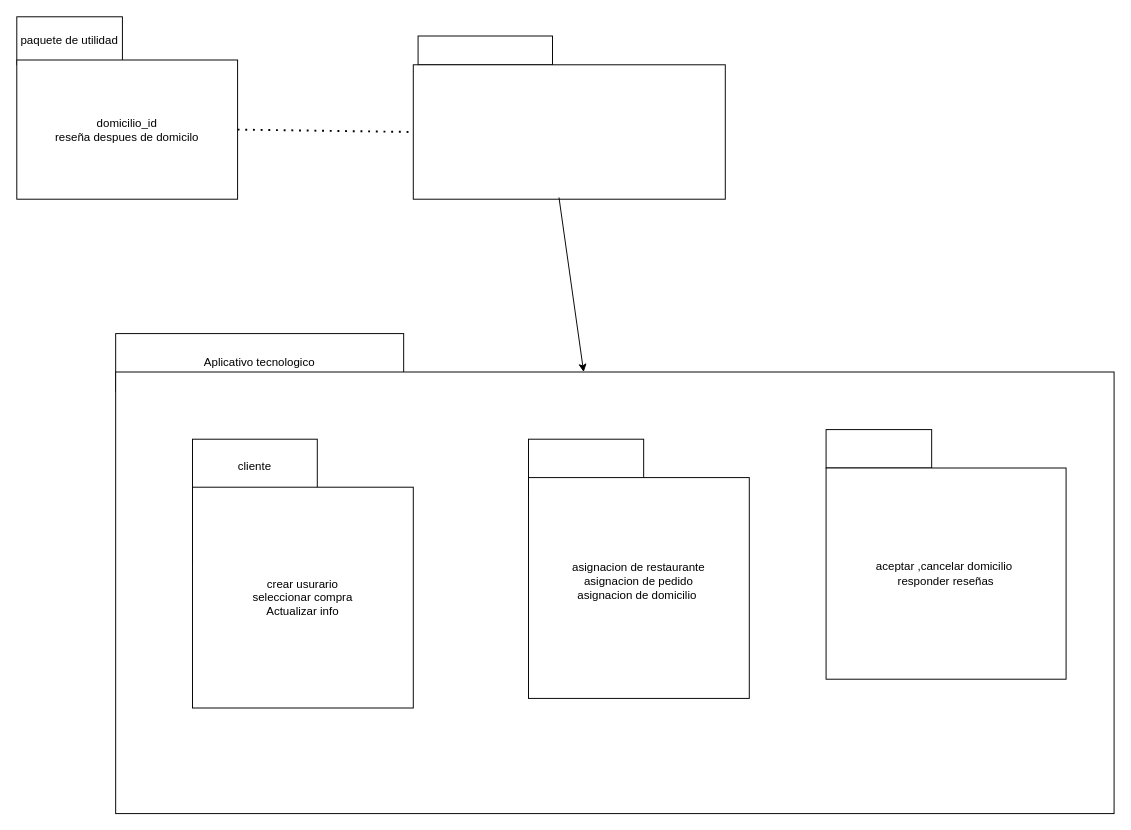
Some shapes in this 1131 by 830 pixel diagram are drawn without their labels. Each missing label, with the centre of its shape:
pagina web aplicacion movil registro de domicilio asignacion de domicilio: (568,131)
paquete de aplicativo tecnologico: (484,50)
pedido: (586,467)
servicio de cocinas cerradas: (878,448)
